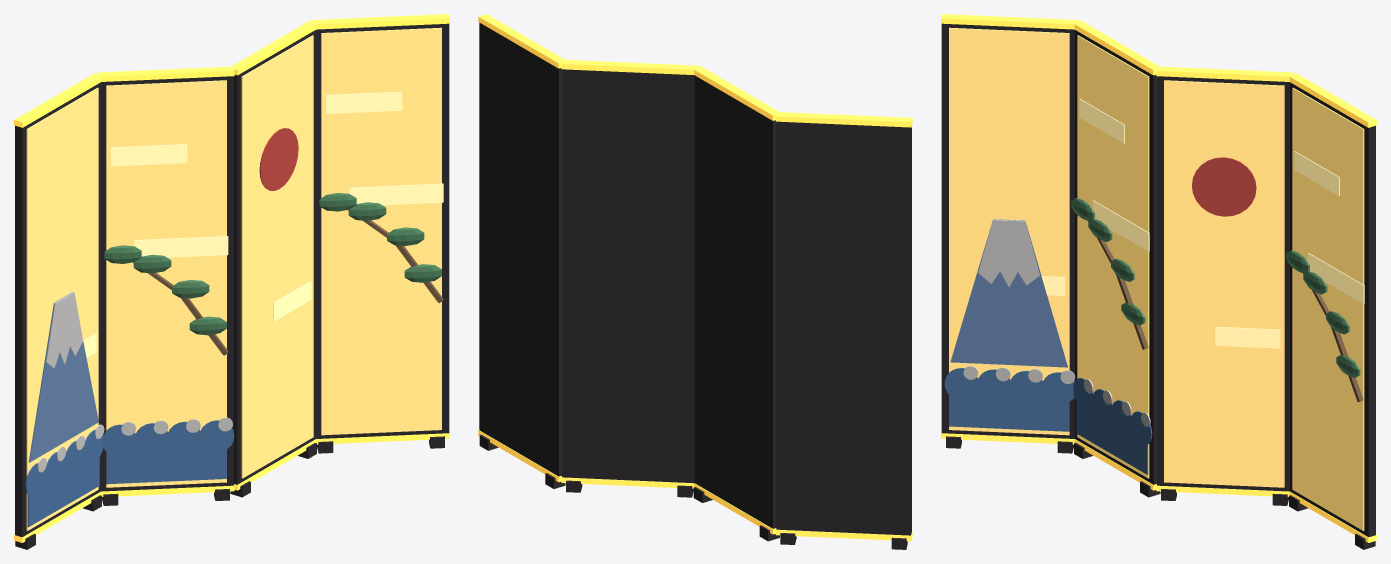
The model's file is jp_byobu.glb.
3 renders of one model, left to right at view 1: azimuth 30°, elevation 25°; view 2: azimuth 150°, elevation 25°; view 3: azimuth 330°, elevation 25°, orthographic.
Parts seen in each view (by area): view 1: jp_byobu; view 2: jp_byobu; view 3: jp_byobu.
Boxes of the visible parts, x1=… form: jp_byobu: x1=14, y1=14, x2=449, y2=549; jp_byobu: x1=478, y1=14, x2=912, y2=549; jp_byobu: x1=941, y1=14, x2=1376, y2=549.
Size of the model in its own units: 1.7 by 1.6 by 0.2288.
